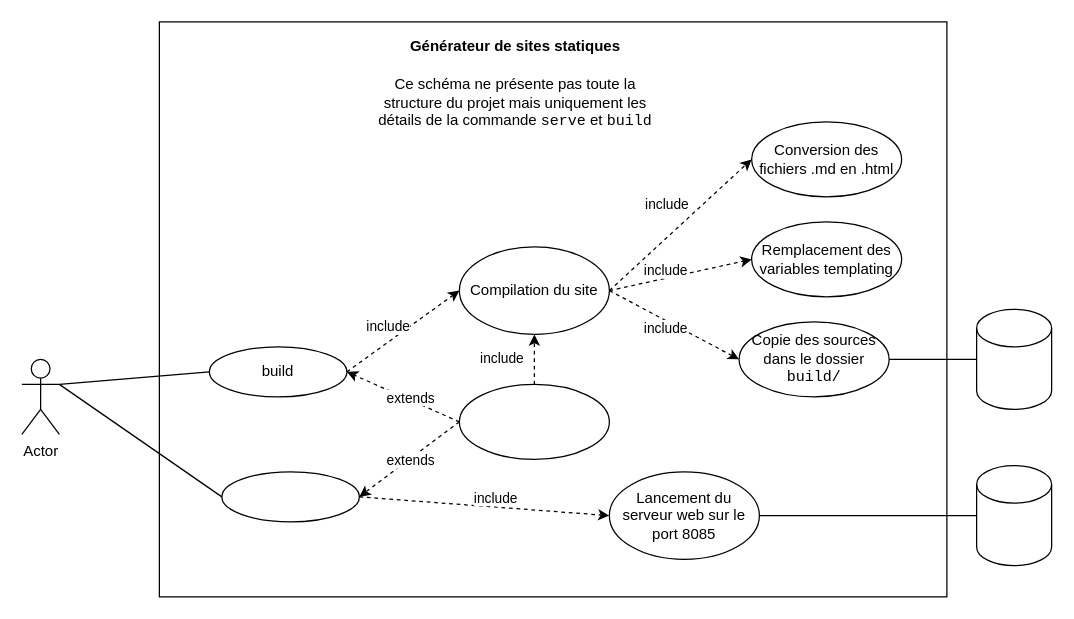
The diagram is 1074 pixels wide and 619 high, and some of its shapes have lost their labels. Each missing label, with the centre of its shape:
"FS" goes at point (1013, 358).
"Option --watch Détection d'une modification" goes at point (533, 421).
"serve" goes at point (290, 496).
"Web" goes at point (1013, 515).
